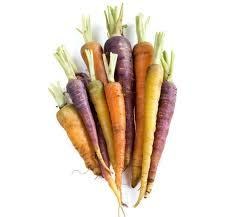Organic: (28, 13, 228, 217)
